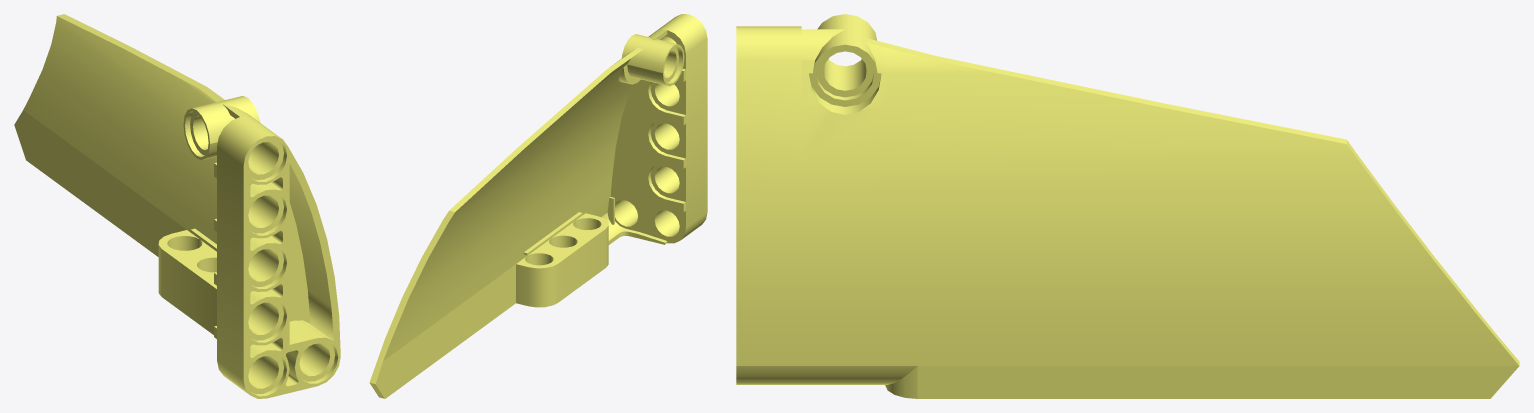
3 views of the same model, side by side, from view 1: azimuth 30°, elevation 25°; view 2: azimuth 150°, elevation 25°; view 3: azimuth 270°, elevation 25° (orthographic). The views are drawn at different scales.
Visible parts, largest first — view 1: 64392.dat; view 2: 64392.dat; view 3: 64392.dat.
Boxes of the visible parts, x1,y1,x2,y2 form: 64392.dat: (14,14,340,398); 64392.dat: (369,14,707,398); 64392.dat: (736,14,1519,398).
Bounding box in the file's own units: 0.0156 × 0.0396 × 0.0864.
